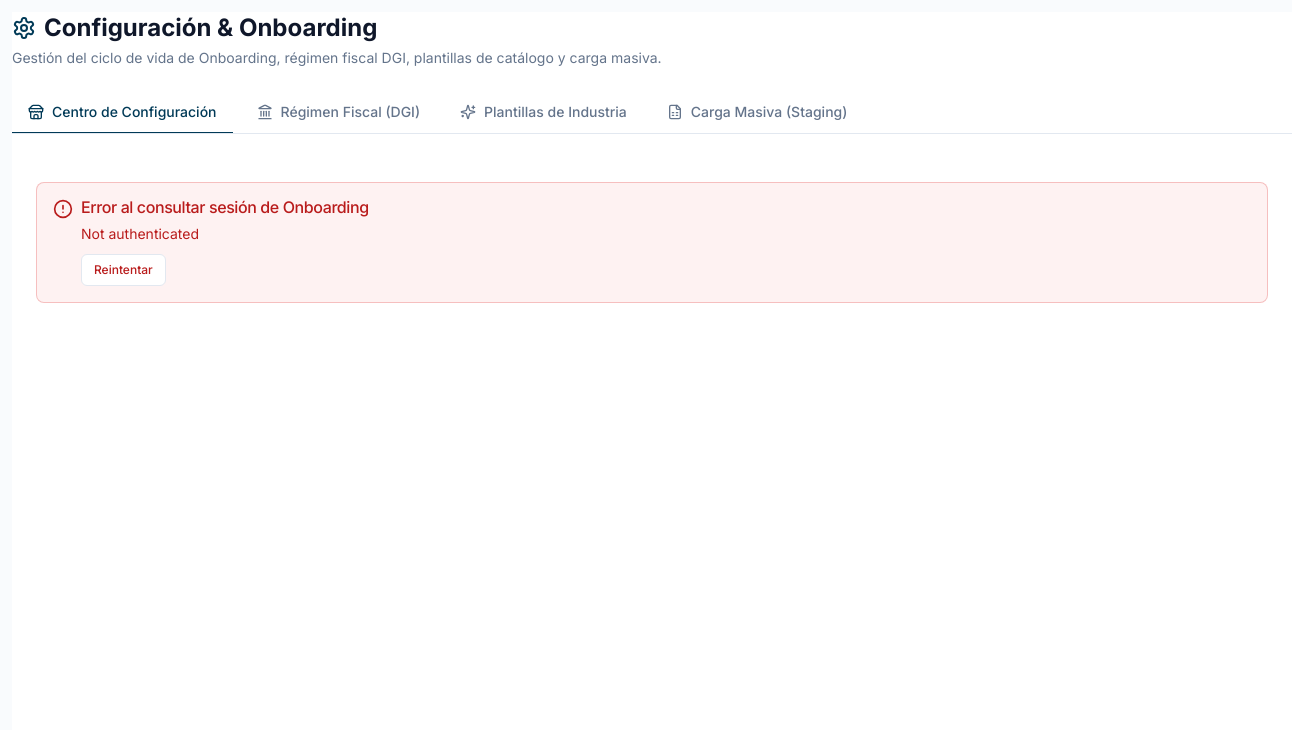
Test case: MenuImportWizard › renders the wizard inside the settings import tab alongside the bulk import
Click the tab with test id "tab-import": (757, 113) [651,92,863,134]
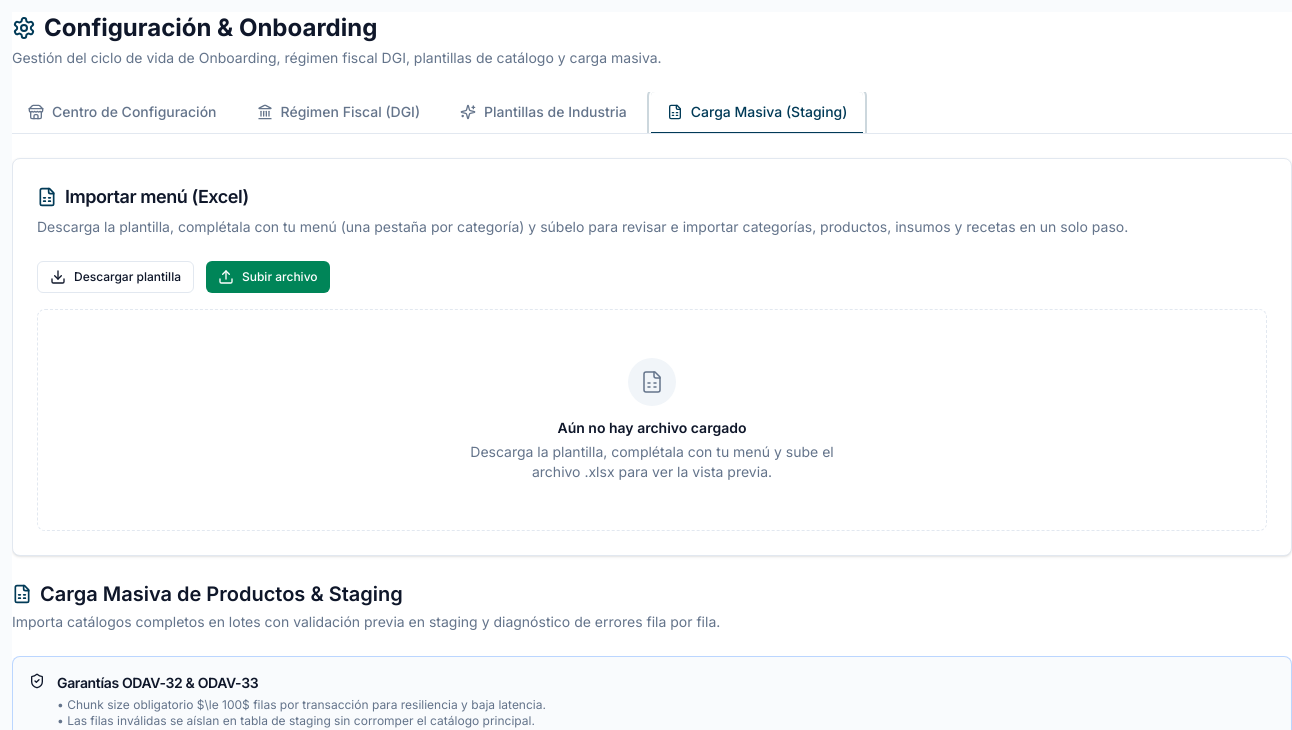
Result: the heading "Importar menú (Excel)" is shown at [37,186,249,207]
Result: the button with test id "menu-import-download-template-btn" is shown at [37,261,194,293]
Result: the text "Subir archivo" is shown at [206,261,330,293]
